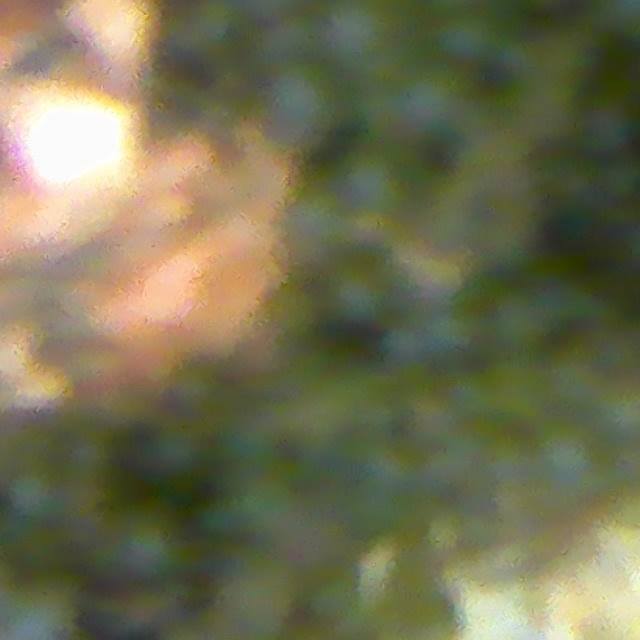SeaGrape: (374, 57, 473, 147), (263, 58, 347, 144), (102, 505, 184, 586), (320, 0, 405, 72), (337, 146, 413, 221), (532, 421, 607, 497), (327, 260, 390, 325), (433, 8, 499, 67)
